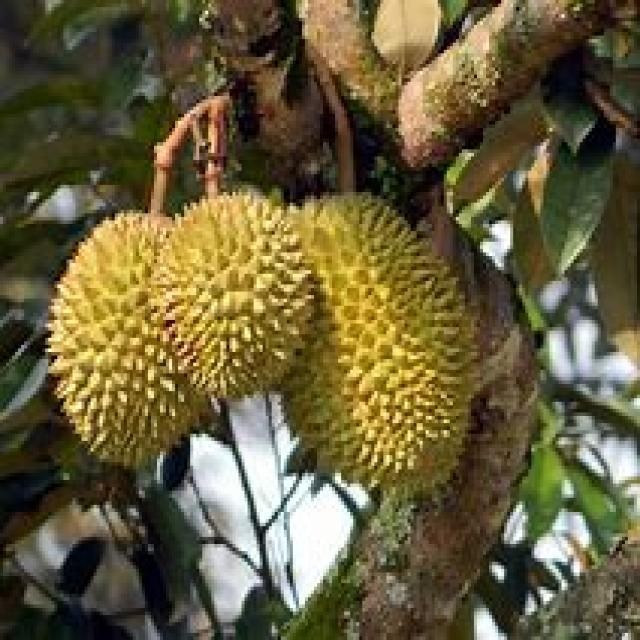mature: (48, 212, 204, 466), (159, 193, 312, 397)
